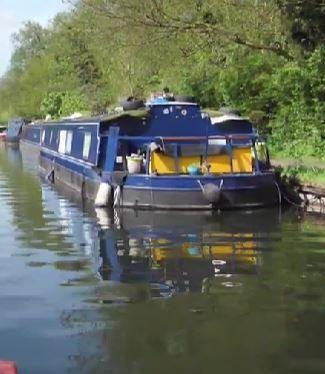Ship: (15, 101, 302, 222)
